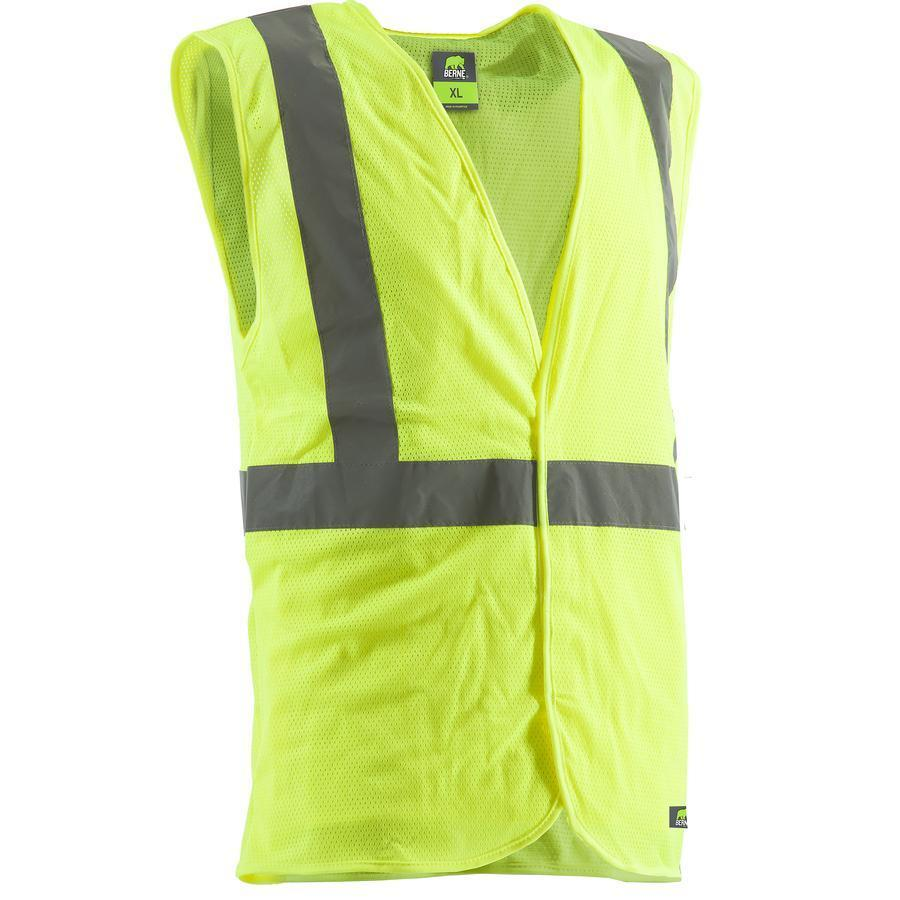vest: (165, 2, 704, 884)
